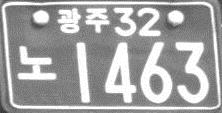1: (73, 40, 93, 104)
2: (136, 5, 162, 38)
3: (174, 40, 210, 104), (111, 6, 136, 38)
4: (103, 40, 138, 103)
6: (138, 41, 172, 104)
광주_O: (56, 6, 110, 33)
노: (16, 43, 57, 82)
